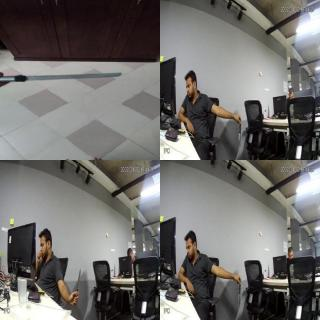knife: (10, 67, 124, 85), (74, 268, 84, 292), (238, 121, 244, 149), (236, 281, 242, 307)
